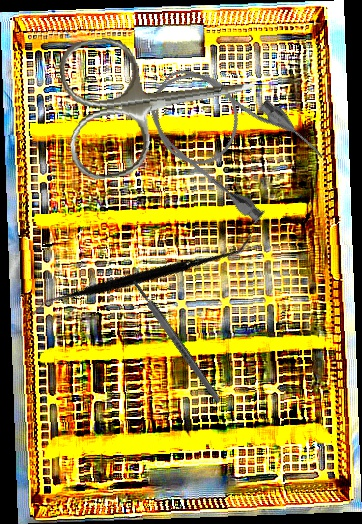Cannula: (129, 41, 330, 232)
Iris Scissors: (56, 18, 265, 183)
Scalpel Handle: (129, 277, 224, 406)
Spatula Surgical: (29, 159, 255, 391)
